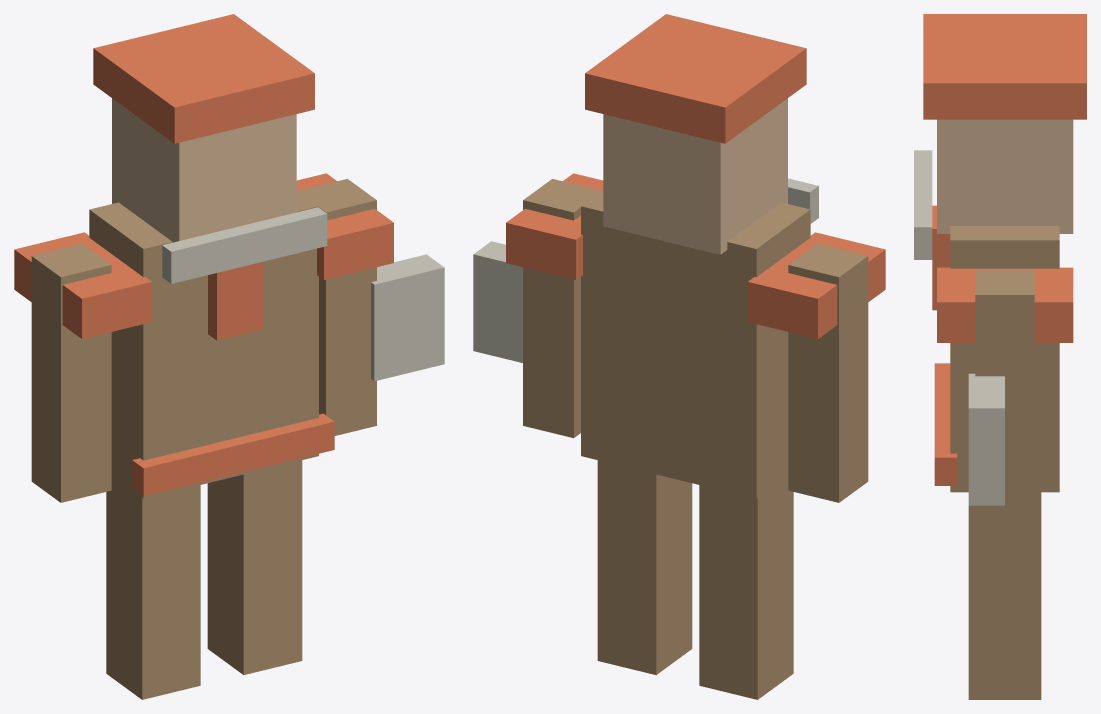
The model's file is 19_dax_nullborne_captain_of_meter.glb.
The picture shows the model from 3 angles, left to right: view 1: azimuth 30°, elevation 25°; view 2: azimuth 150°, elevation 25°; view 3: azimuth 270°, elevation 25°; orthographic projection.
Parts seen in each view (by area): view 1: Dax Nullborne, Captain of Meter; view 2: Dax Nullborne, Captain of Meter; view 3: Dax Nullborne, Captain of Meter.
Boxes of the visible parts, left/top/right/bottom form: Dax Nullborne, Captain of Meter: left=14, top=14, right=444, bottom=699; Dax Nullborne, Captain of Meter: left=473, top=14, right=885, bottom=699; Dax Nullborne, Captain of Meter: left=914, top=14, right=1086, bottom=699.
Size of the model in its own units: 1.07 by 1.62 by 0.4157.
